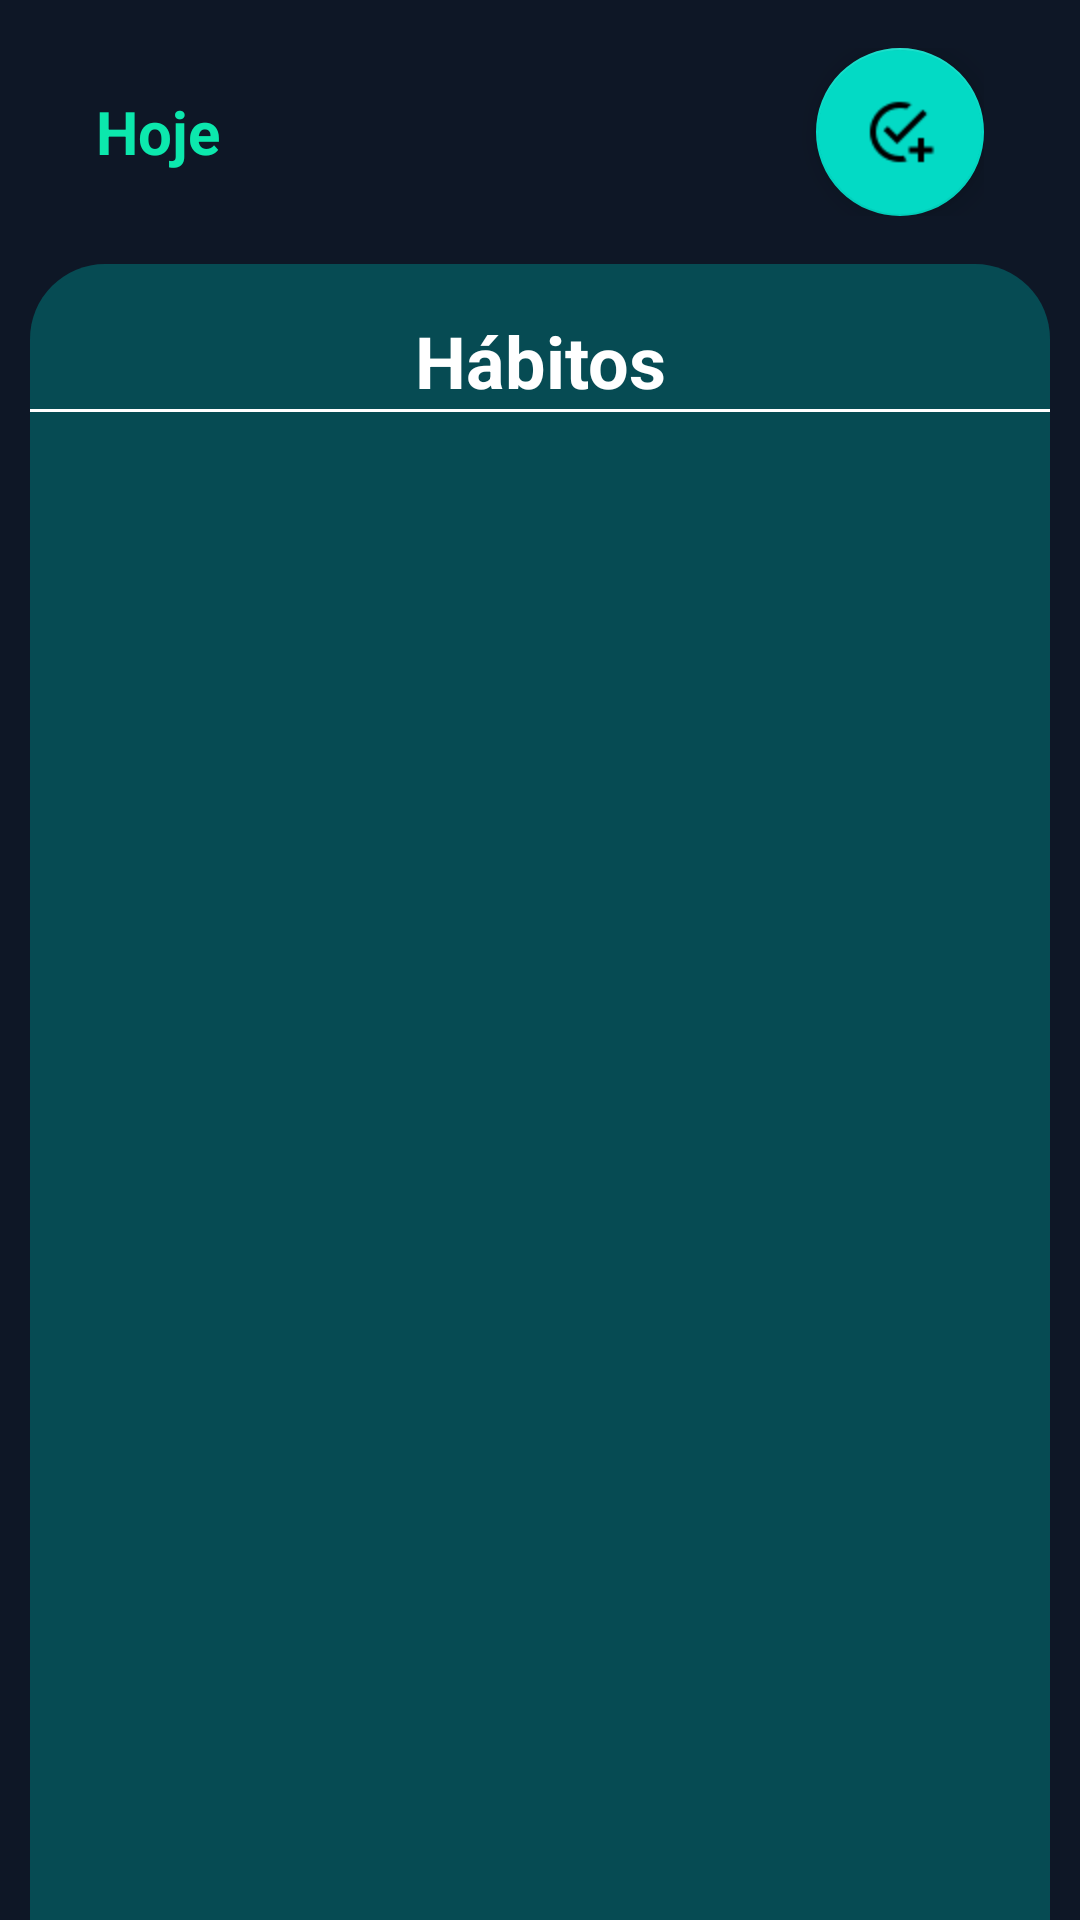

Where to tap for icons on this 1080 × 1920 app screen, as (x,y):
checkbox marked plus: (900,132)
